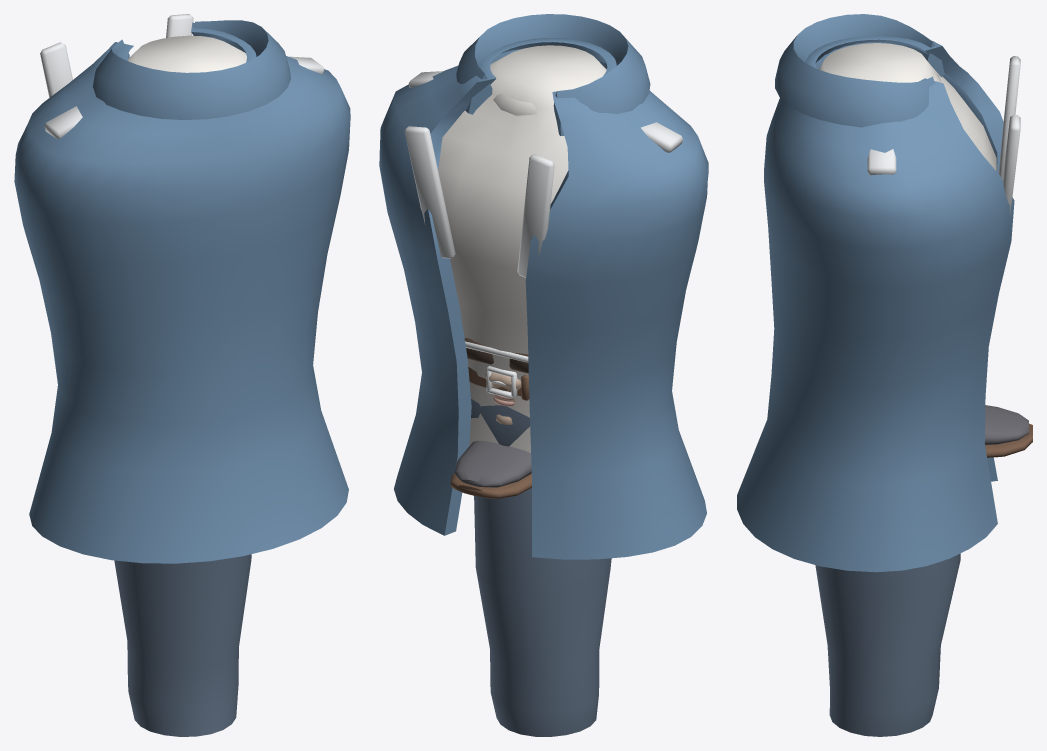
The model's file is Character_BossKuzgun.fbx.
The picture shows the model from 3 angles, left to right: view 1: azimuth 30°, elevation 25°; view 2: azimuth 150°, elevation 25°; view 3: azimuth 270°, elevation 25°; orthographic projection. The views are drawn at different scales.
Parts seen in each view (by area): view 1: Part_Chest, Part_L_Thigh; view 2: Part_Chest, Part_L_Thigh, Part_L_Foot, Part_Pelvis, Part_Head; view 3: Part_Chest, Part_L_Thigh, Part_L_Foot.
Part boxes in pixels (x1,y1,x2,y2): Part_Chest: (14, 14, 350, 563); Part_L_Thigh: (114, 554, 251, 736); Part_Chest: (379, 14, 708, 559); Part_L_Thigh: (474, 488, 611, 736); Part_L_Foot: (450, 440, 531, 498); Part_Pelvis: (468, 366, 530, 446); Part_Head: (464, 337, 528, 424); Part_Chest: (737, 14, 1020, 572); Part_L_Thigh: (815, 553, 960, 736); Part_L_Foot: (984, 405, 1032, 457).
Bounding box in the file's own units: 0.4744 × 0.986 × 0.3938.
